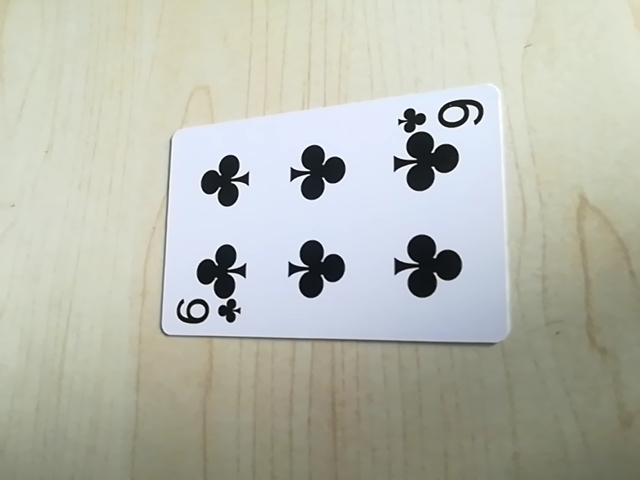mh 6: (396, 95, 488, 135), (168, 295, 241, 330)
